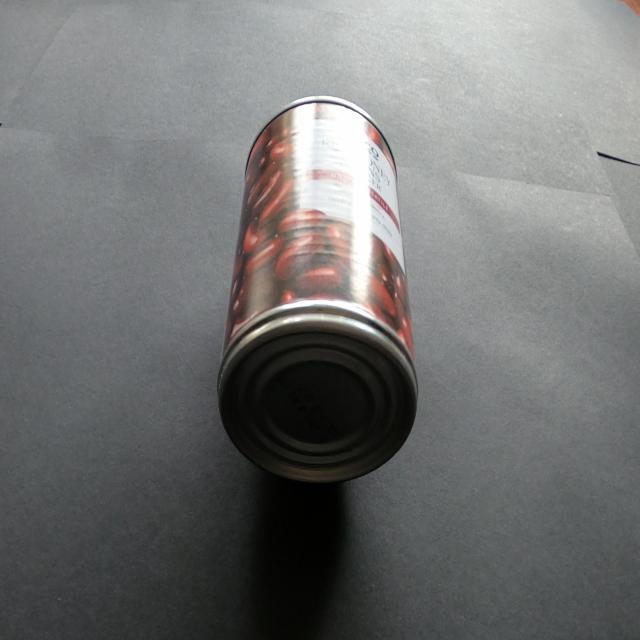Redbeans: (203, 78, 440, 510)
